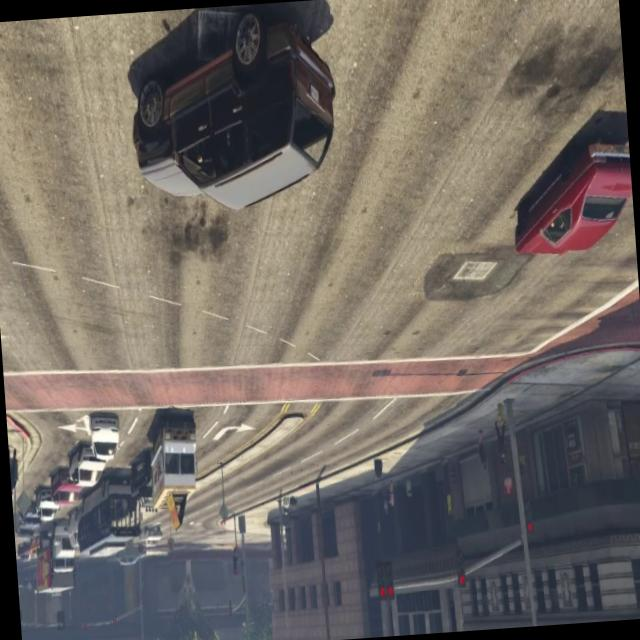Red-Signal: (369, 549, 402, 608), (452, 542, 470, 596), (520, 491, 538, 540)
